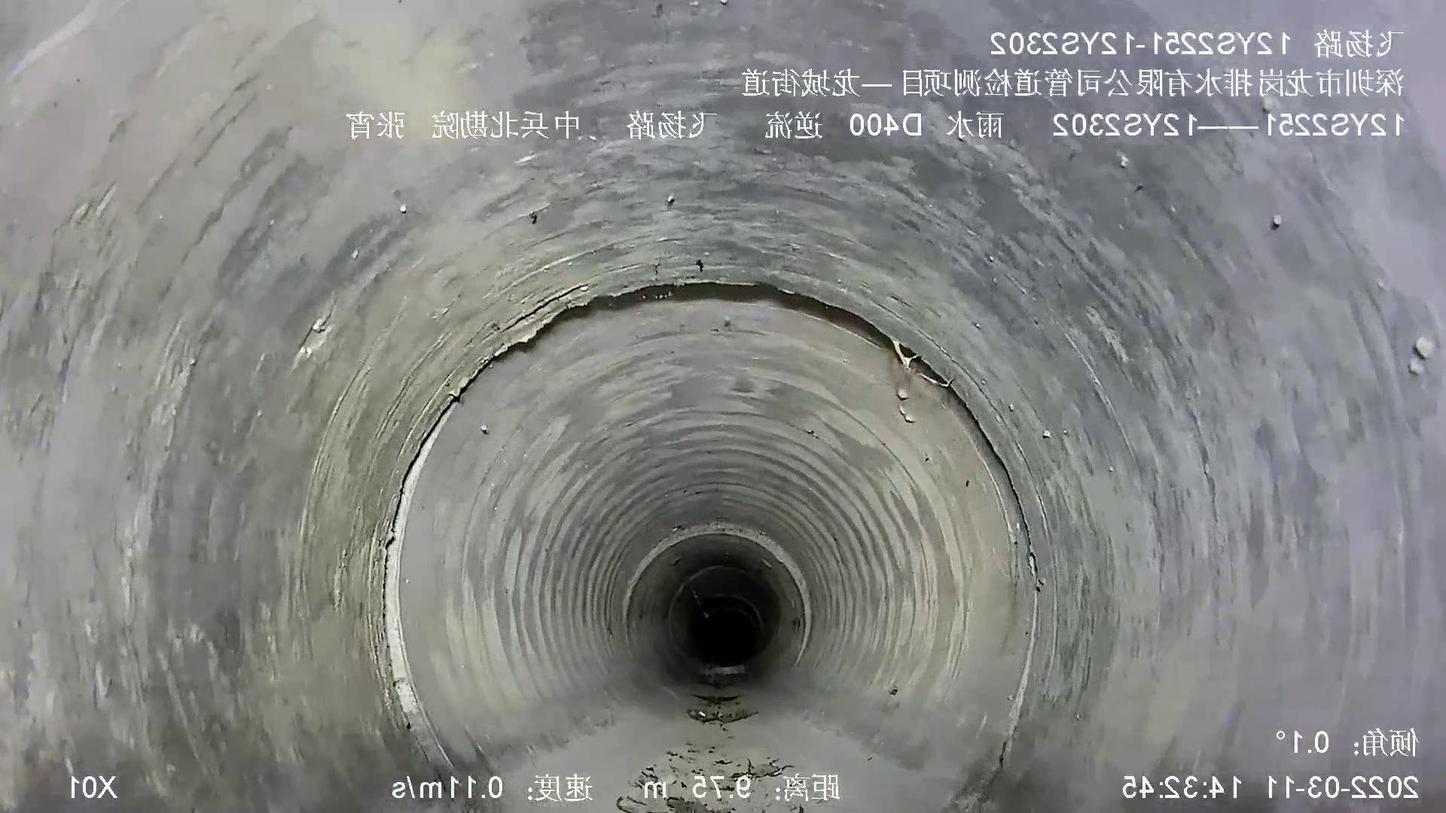CKTJ: (382, 282, 1042, 787), (622, 522, 813, 662)
